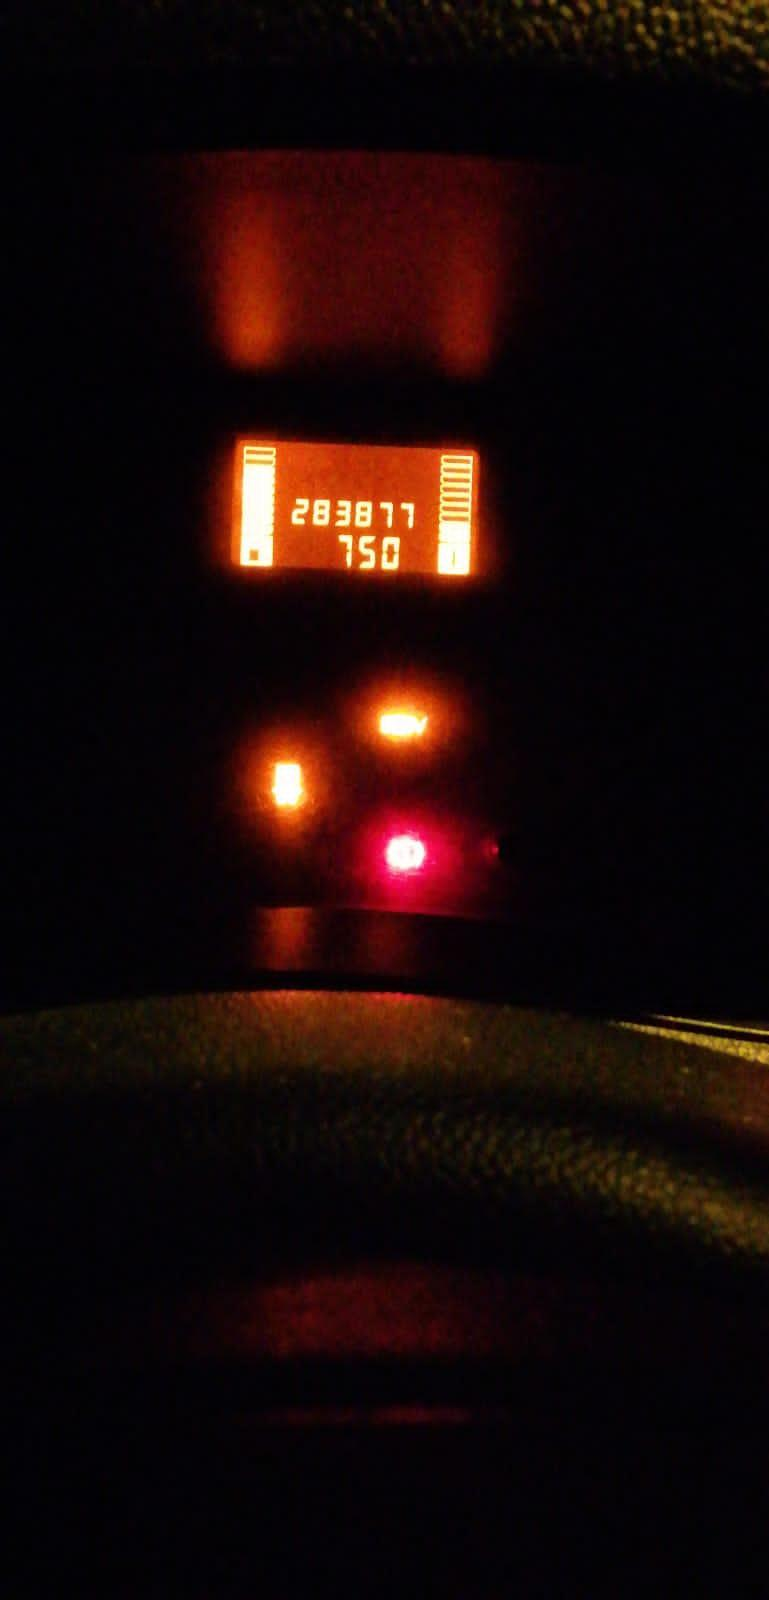0: (380, 535, 401, 571)
2: (290, 497, 309, 524)
3: (334, 498, 352, 527)
5: (357, 534, 377, 569)
7: (335, 533, 354, 569), (398, 500, 415, 529), (378, 500, 394, 529)
8: (312, 498, 331, 526), (354, 500, 372, 528)
odometer: (226, 435, 482, 581)
